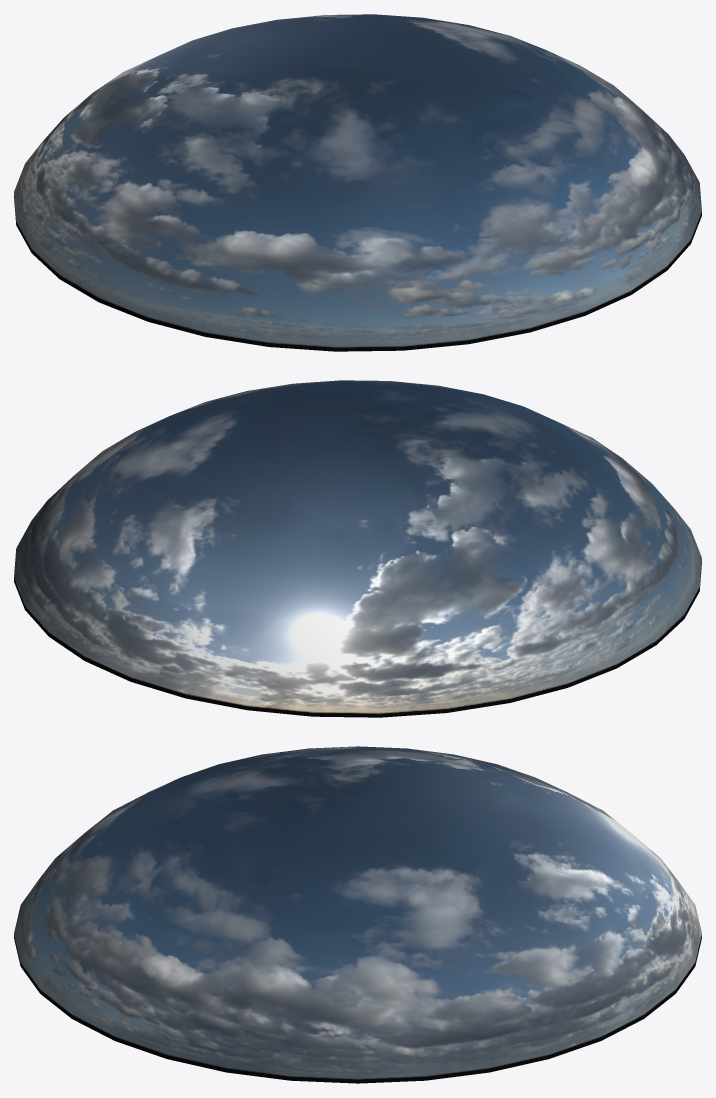
File: InnerDome.dae
The picture shows the model from 3 angles, top to bottom: view 1: azimuth 30°, elevation 25°; view 2: azimuth 150°, elevation 25°; view 3: azimuth 270°, elevation 25°; orthographic projection.
Visible parts, largest first — view 1: Dome_Inner; view 2: Dome_Inner; view 3: Dome_Inner.
Boxes of the visible parts, x1,y1,x2,y2 form: Dome_Inner: (14,14,701,351); Dome_Inner: (14,380,701,717); Dome_Inner: (14,746,701,1083).
Size of the model in its own units: 198 by 198 by 44.13.
